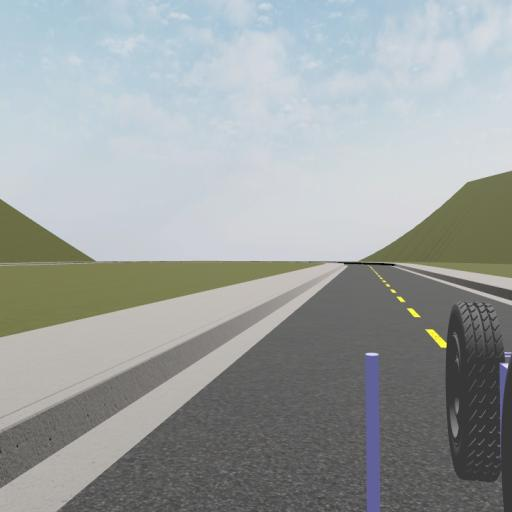ERP-42: (444, 302, 510, 508)
